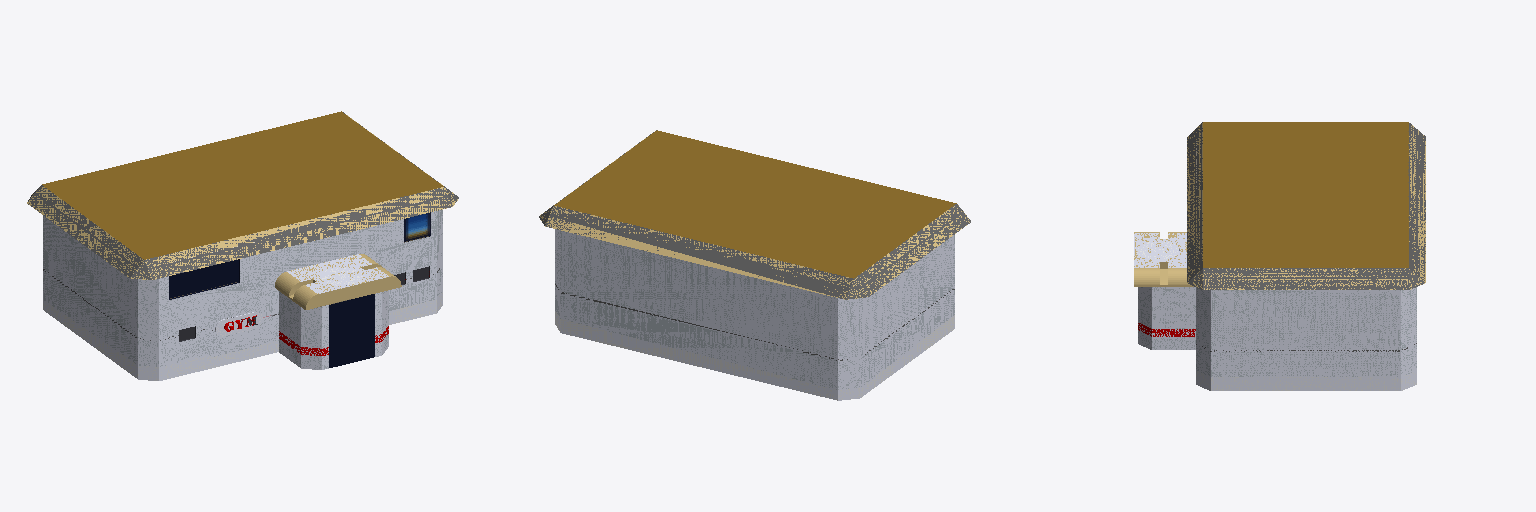
3 renders of one model, left to right at view 1: azimuth 30°, elevation 25°; view 2: azimuth 150°, elevation 25°; view 3: azimuth 270°, elevation 25°, orthographic.
Parts seen in each view (by area): view 1: SketchUp_ID33; view 2: SketchUp_ID33; view 3: SketchUp_ID33.
Boxes of the visible parts, x1,y1,x2,y2 form: SketchUp_ID33: [27, 111, 458, 380]; SketchUp_ID33: [539, 130, 970, 400]; SketchUp_ID33: [1134, 122, 1425, 390].
Bounding box in the file's own units: 1.77 × 0.6252 × 1.35.
Materials: 14 (1 with a texture image).